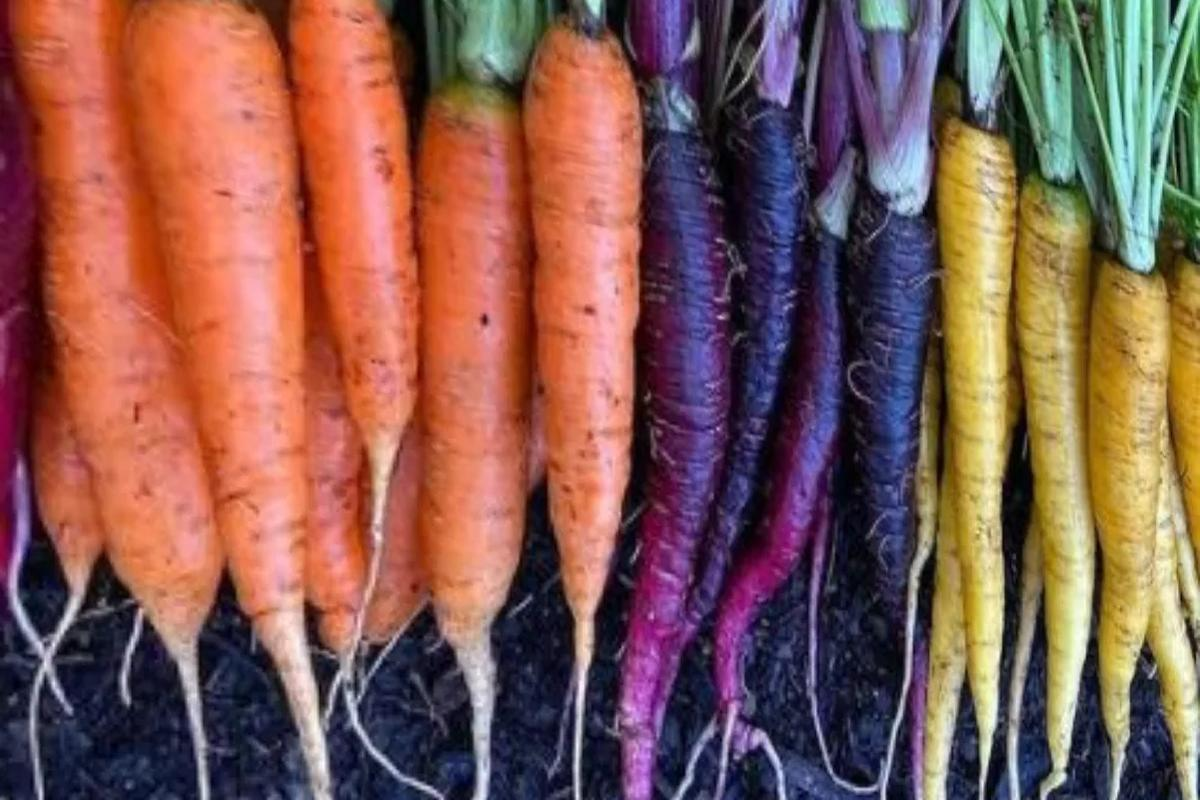carrot: (7, 1, 631, 800), (423, 4, 642, 800), (4, 0, 216, 800), (217, 0, 418, 800)
